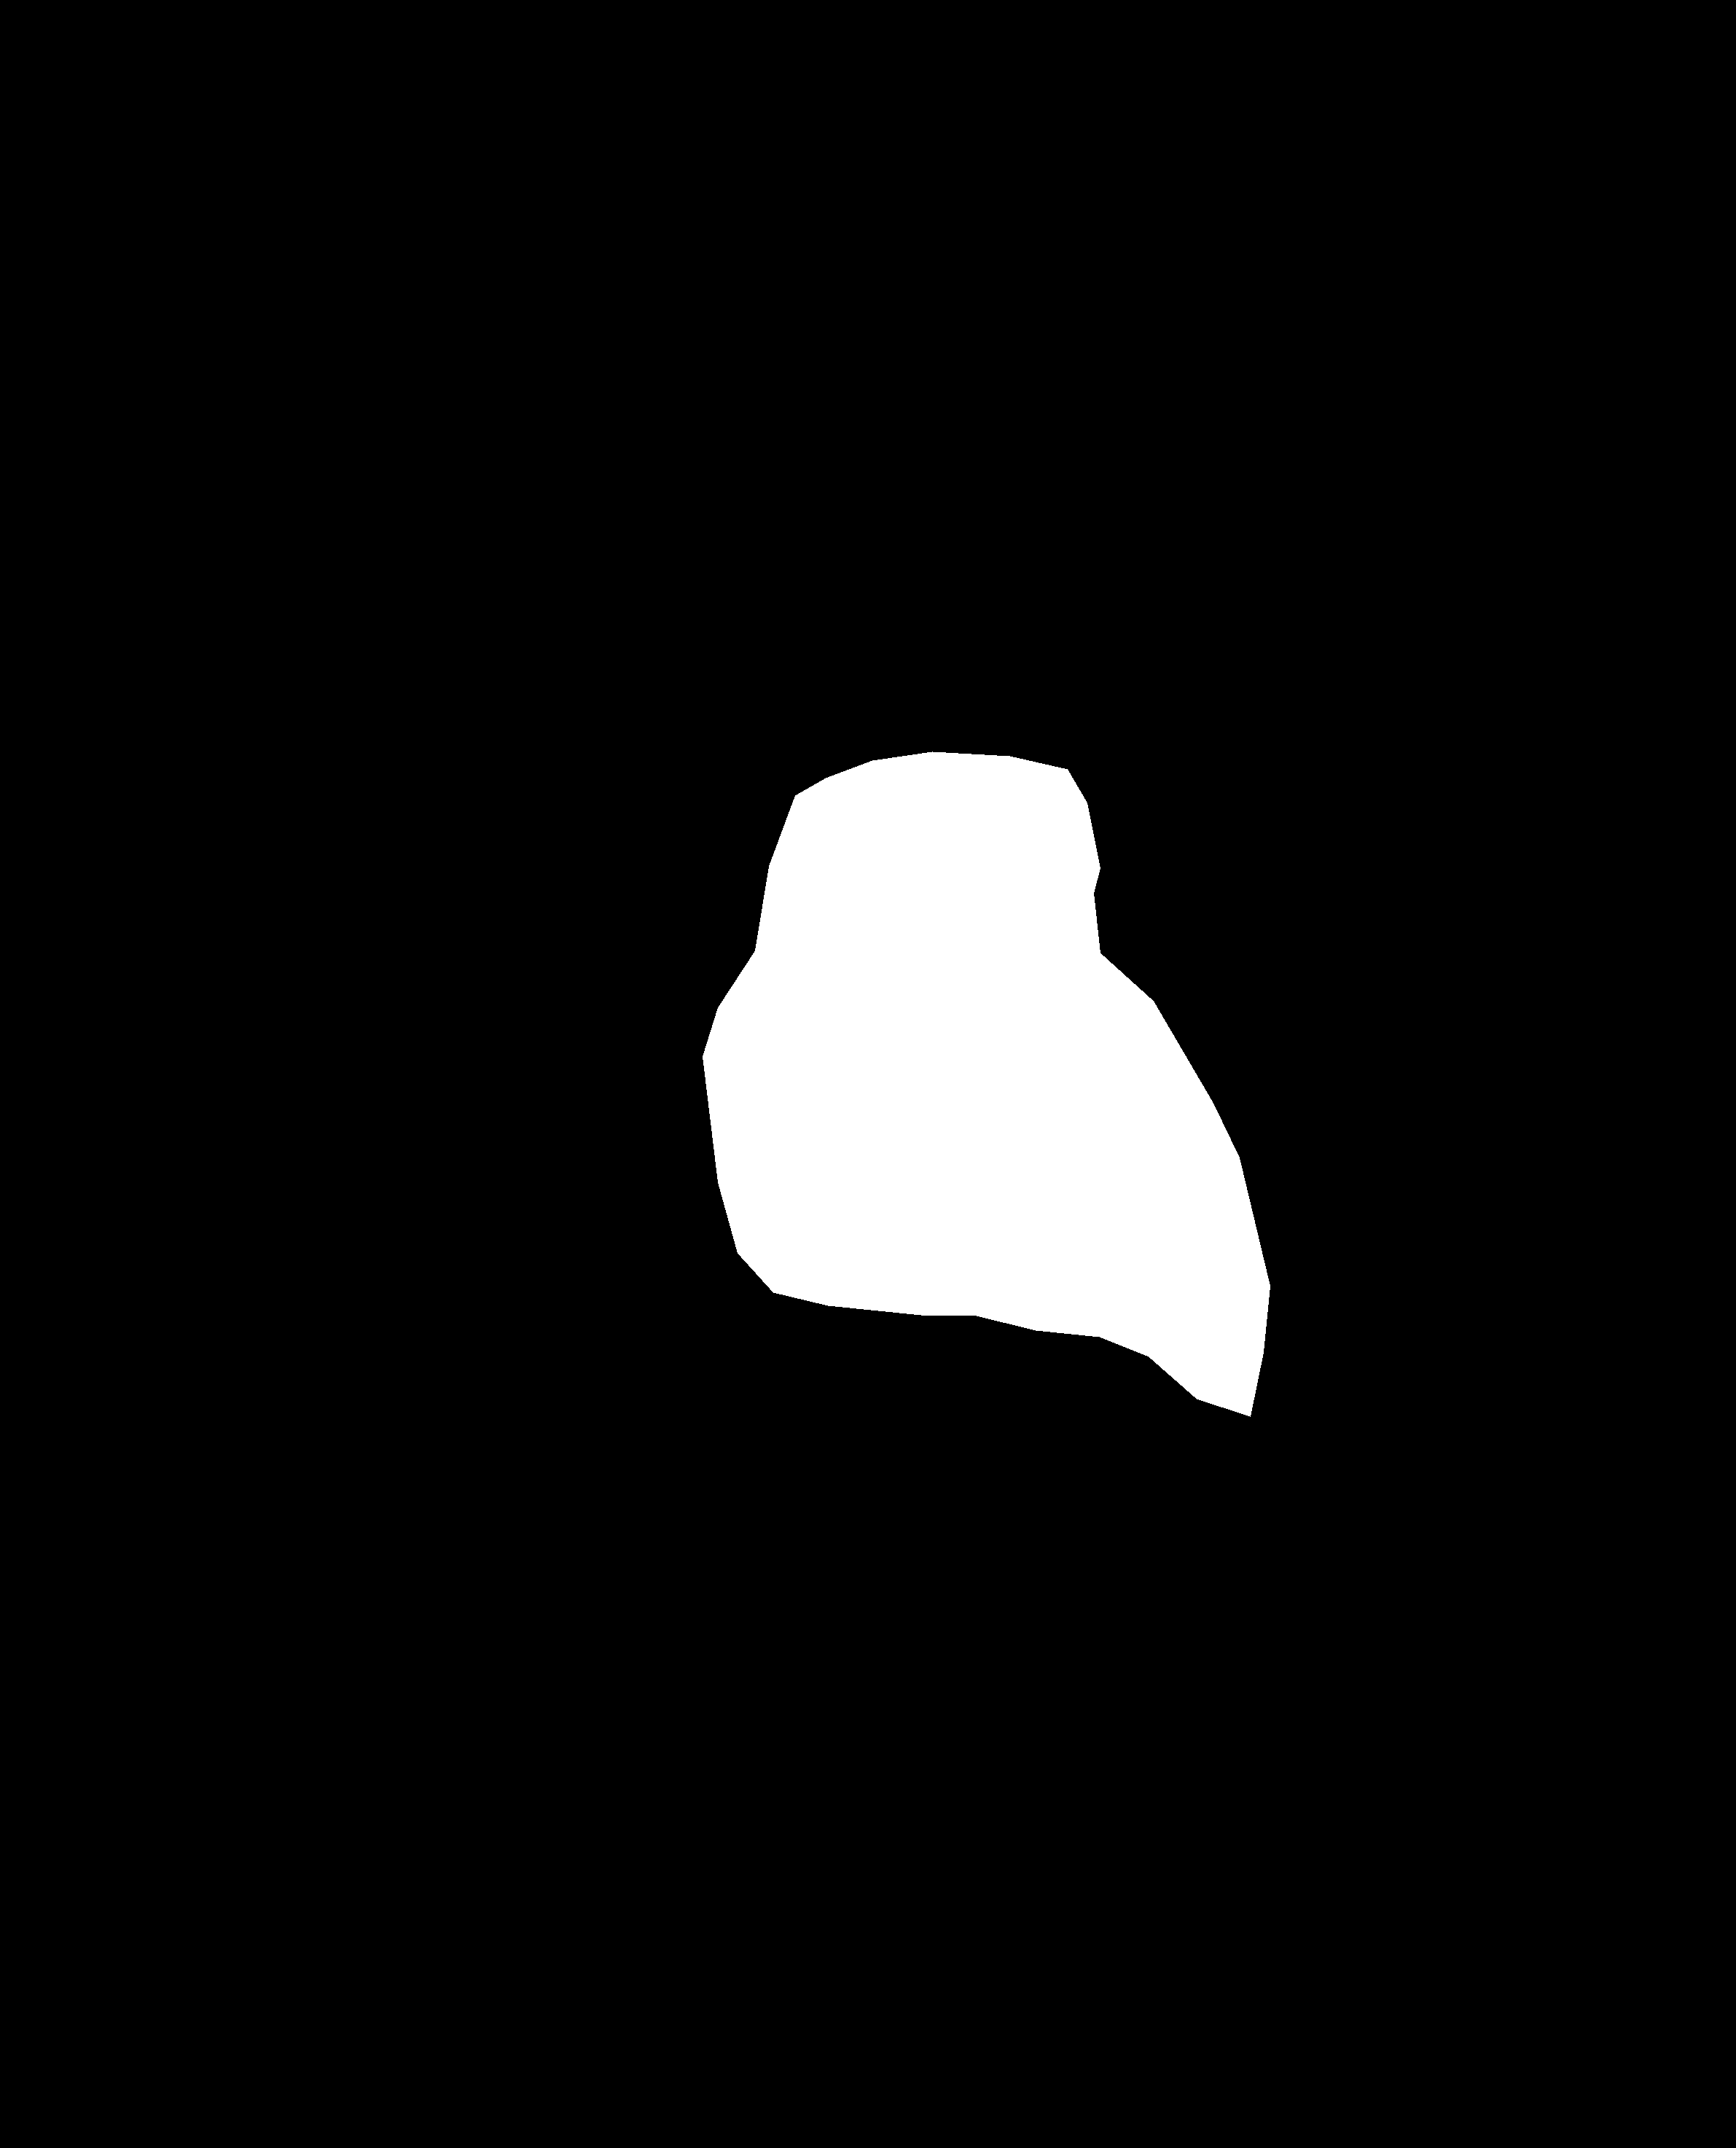heart: (703, 751, 1270, 1417)
left_lung: (294, 267, 850, 1493)
right_lung: (992, 336, 1543, 1482)
